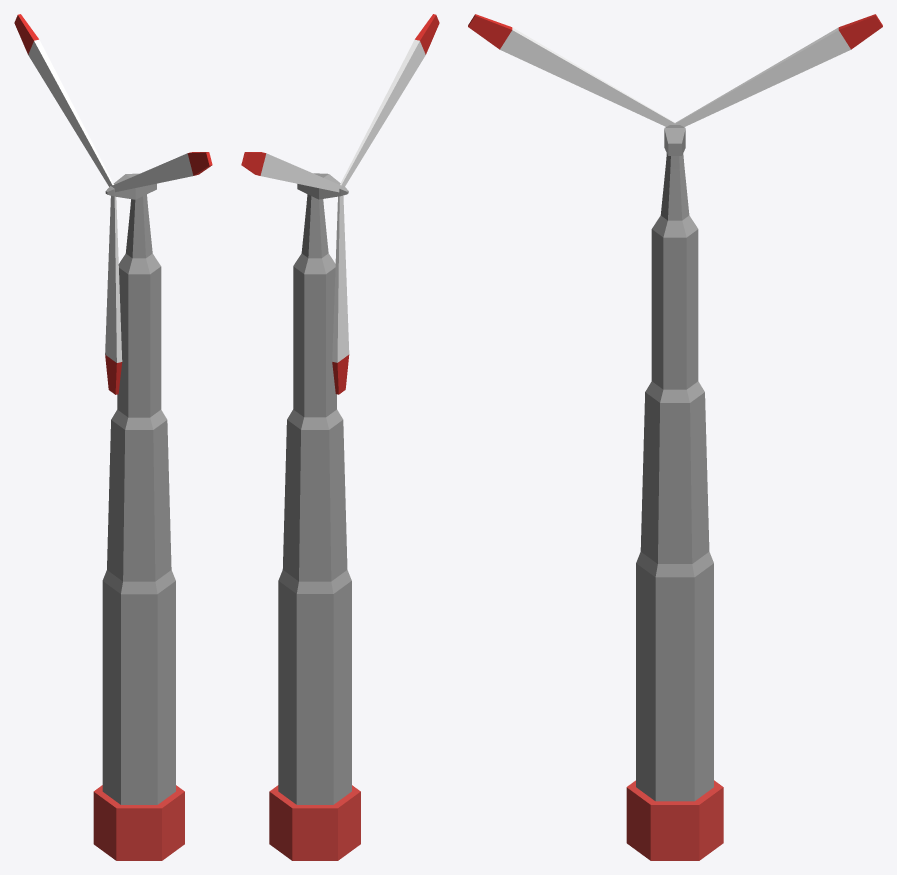
File: MESHwindturbine.fbx
3 views of the same model, side by side, from view 1: azimuth 30°, elevation 25°; view 2: azimuth 150°, elevation 25°; view 3: azimuth 270°, elevation 25° (orthographic). The views are drawn at different scales.
Parts seen in each view (by area): view 1: Base, Turbine; view 2: Base, Turbine; view 3: Base, Turbine.
Boxes of the visible parts, box(x1,y1,x2,y2) form: Base: box(93, 173, 184, 860); Turbine: box(14, 14, 212, 394); Base: box(269, 173, 360, 860); Turbine: box(241, 14, 439, 394); Base: box(626, 125, 723, 860); Turbine: box(468, 14, 882, 127).
Size of the model in its own units: 73.36 by 785 by 362.
